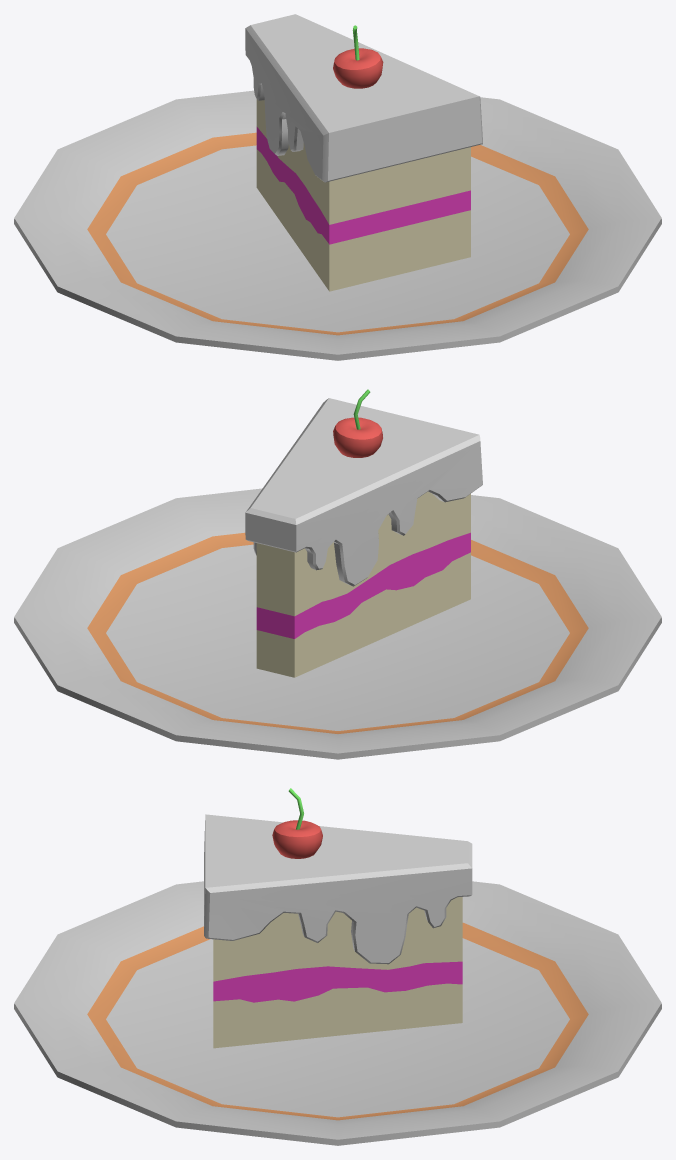
File: Asset014_Packdeitens01_Pratocombolo.fbx
The picture shows the model from 3 angles, top to bottom: view 1: azimuth 30°, elevation 25°; view 2: azimuth 150°, elevation 25°; view 3: azimuth 270°, elevation 25°; orthographic projection.
Parts seen in each view (by area): view 1: Prato_01, Bolo, Cereja; view 2: Prato_01, Bolo, Cereja; view 3: Prato_01, Bolo, Cereja.
Boxes of the visible parts, x1=… form: Prato_01: x1=14, y1=90, x2=661, y2=360; Bolo: x1=245, y1=14, x2=482, y2=291; Cereja: x1=333, y1=25, x2=383, y2=88; Prato_01: x1=14, y1=488, x2=661, y2=759; Bolo: x1=245, y1=398, x2=482, y2=677; Cereja: x1=333, y1=389, x2=382, y2=457; Prato_01: x1=14, y1=881, x2=661, y2=1145; Bolo: x1=204, y1=814, x2=472, y2=1048; Cereja: x1=272, y1=788, x2=322, y2=858.
Bounding box in the file's own units: 77.74 × 30.95 × 77.74.
